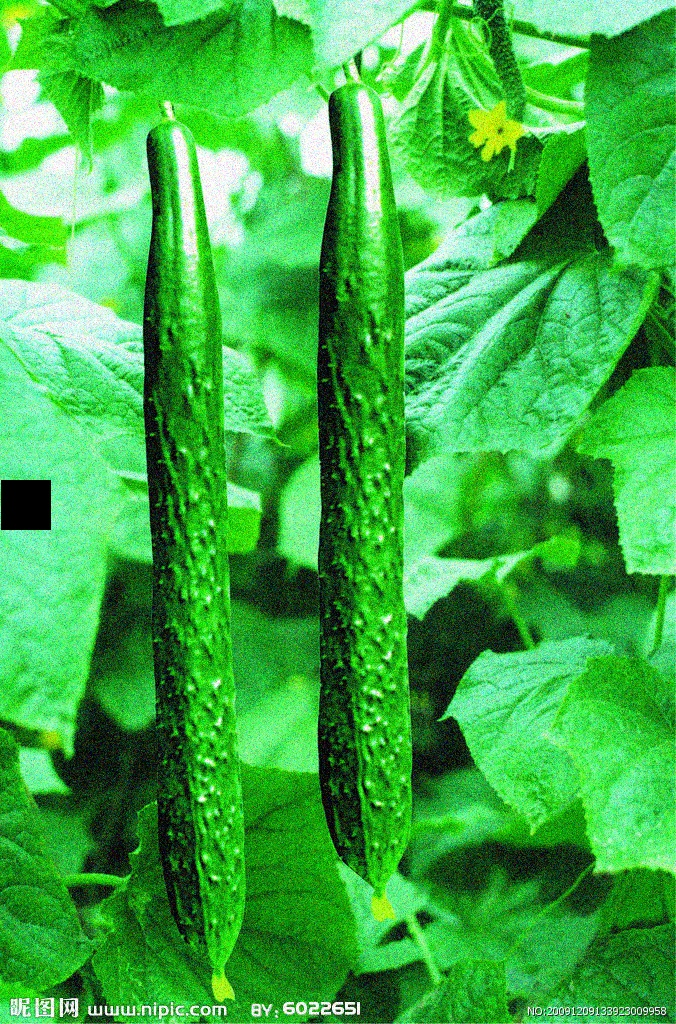cucumber: (144, 123, 254, 978), (316, 83, 422, 899)
cucumber_plant: (425, 42, 665, 433)
